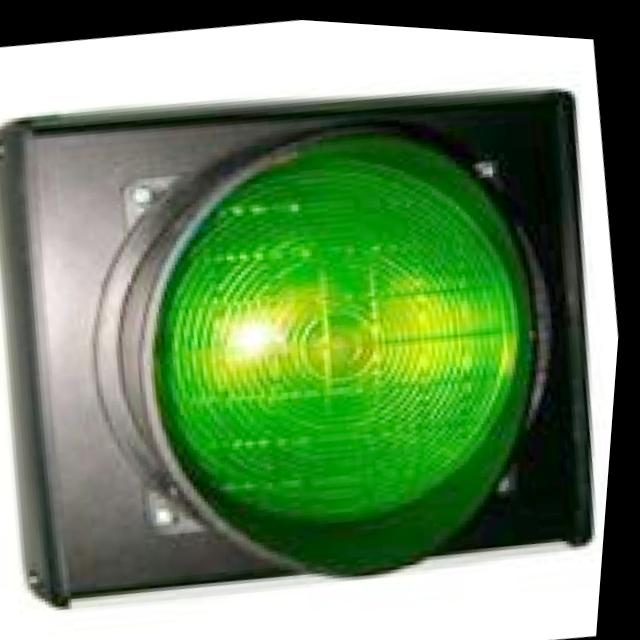green_light: (97, 62, 609, 618)
